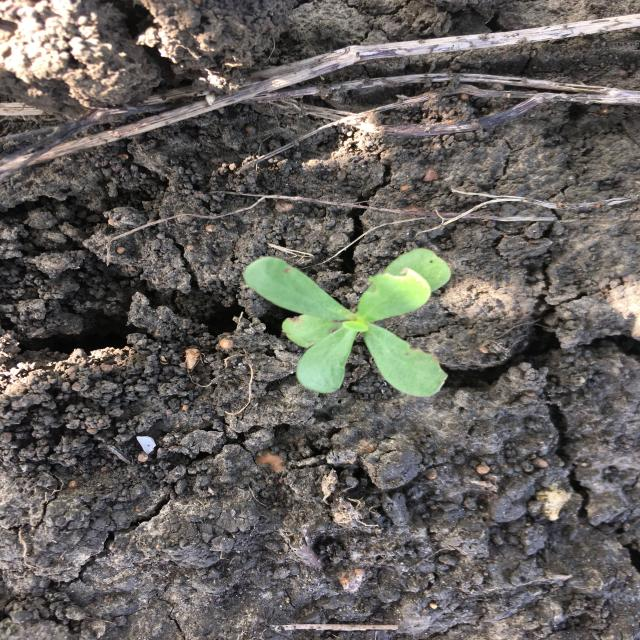Purslane: (238, 245, 455, 401)
